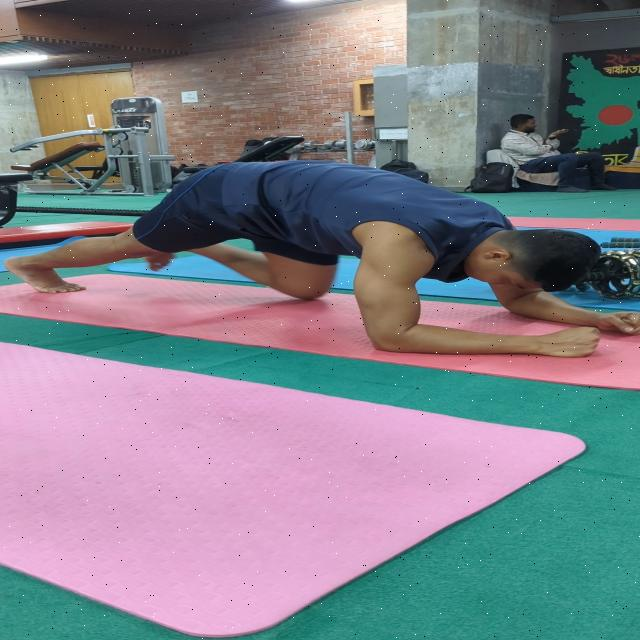Normal_MountainClimbers: (6, 151, 640, 357)
